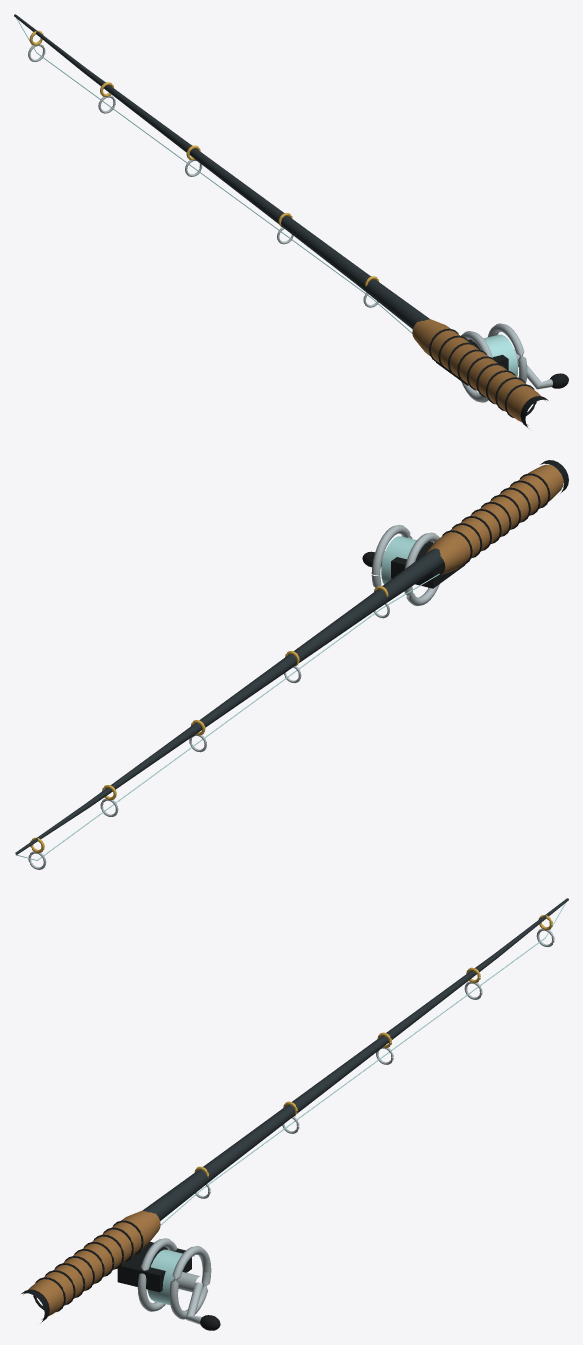
File: fishing_rod.glb
The picture shows the model from 3 angles, top to bottom: view 1: azimuth 30°, elevation 25°; view 2: azimuth 150°, elevation 25°; view 3: azimuth 330°, elevation 25°; orthographic projection. The views are drawn at different scales.
Visible parts, largest first — view 1: MWC_fishing_rod; view 2: MWC_fishing_rod; view 3: MWC_fishing_rod.
Boxes of the visible parts, box(x1,y1,x2,y2) form: MWC_fishing_rod: box(14, 14, 568, 427); MWC_fishing_rod: box(15, 460, 568, 869); MWC_fishing_rod: box(21, 898, 568, 1330).
Size of the model in its own units: 0.1312 by 0.0802 by 0.9712.
Materials: 1 (1 with a texture image).
